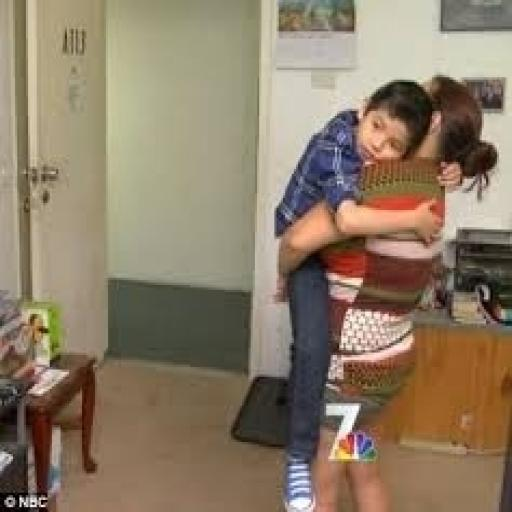hugging: (272, 72, 499, 510)
